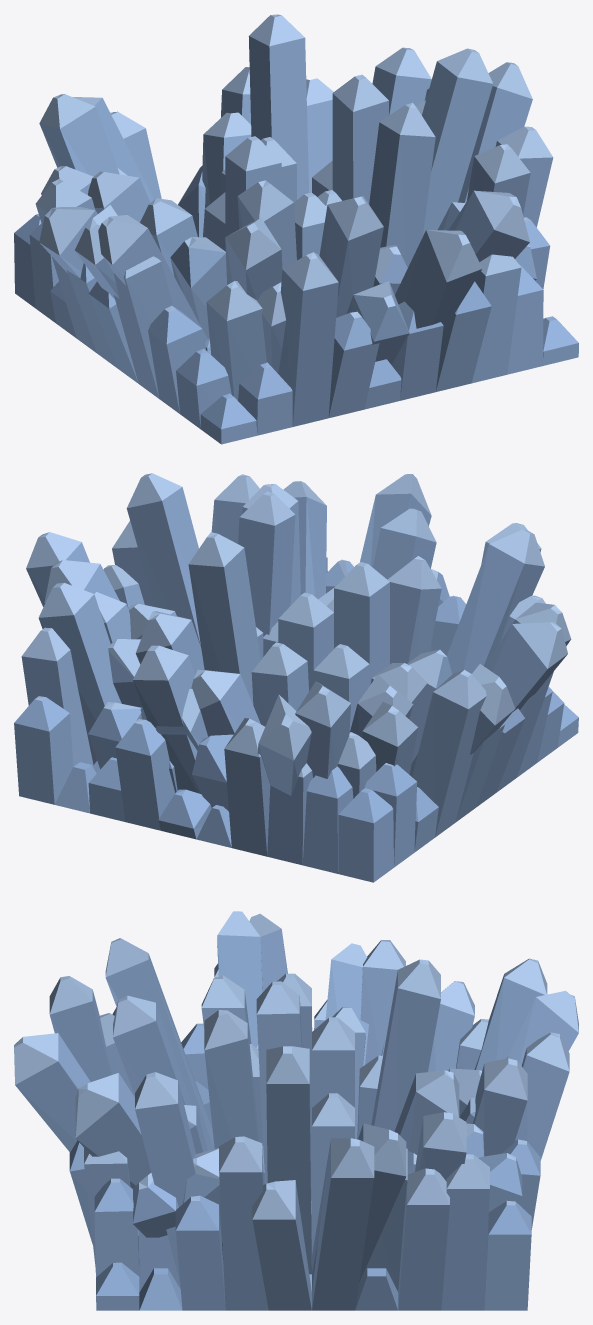
File: crystal_22.fbx
3 renders of one model, top to bottom at view 1: azimuth 30°, elevation 25°; view 2: azimuth 150°, elevation 25°; view 3: azimuth 270°, elevation 25°, orthographic. The views are drawn at different scales.
Visible parts, largest first — view 1: crystal_22; view 2: crystal_22; view 3: crystal_22.
Boxes of the visible parts, x1,y1,x2,y2 form: crystal_22: (14, 14, 578, 444); crystal_22: (14, 473, 578, 882); crystal_22: (14, 911, 578, 1310).
Bounding box in the file's own units: 461 × 241 × 448.
